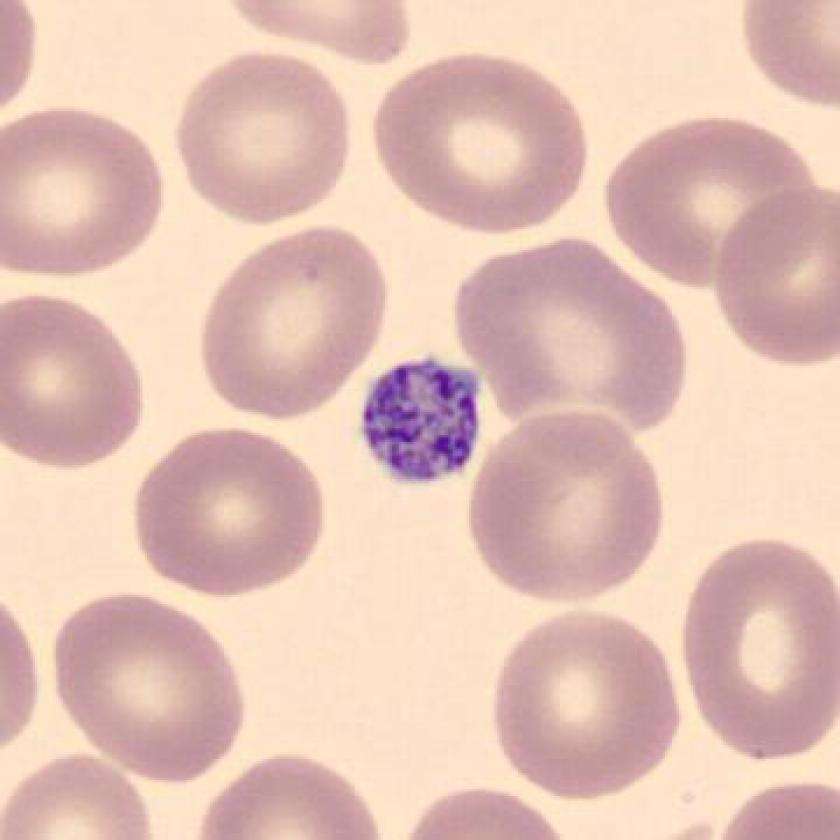platelets: (349, 341, 498, 501)
